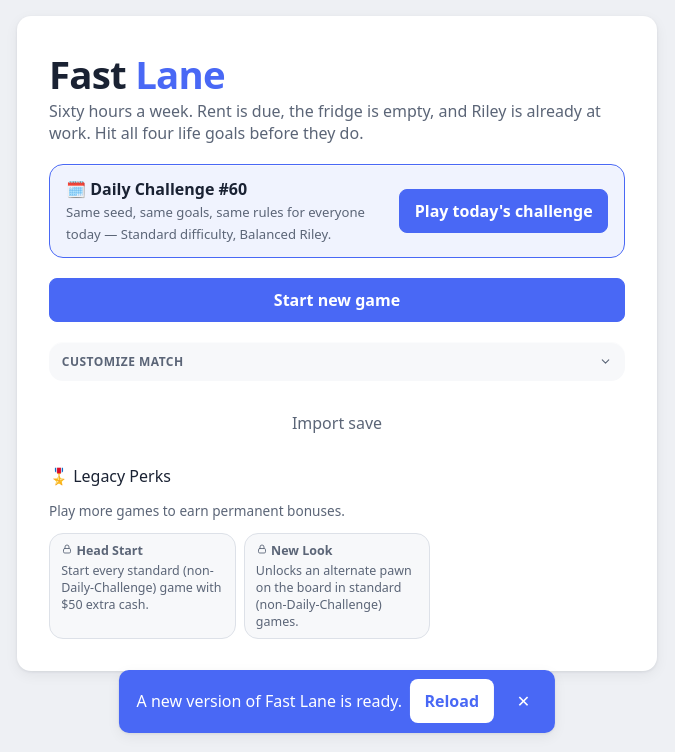
it: UpdateToast › dismissing hides the toast without reloading
Expected: the text "A new version of Fast Lane is ready." is shown, x1=136 y1=690 x2=402 y2=712
Click the button named "dismiss": (524, 701) x1=502 y1=679 x2=546 y2=723
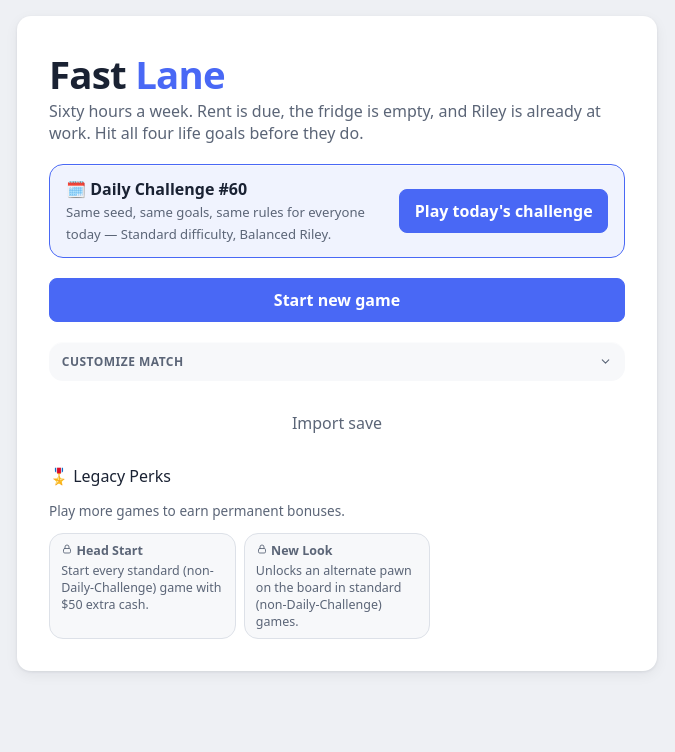
Expected: the text "new version" is gone
